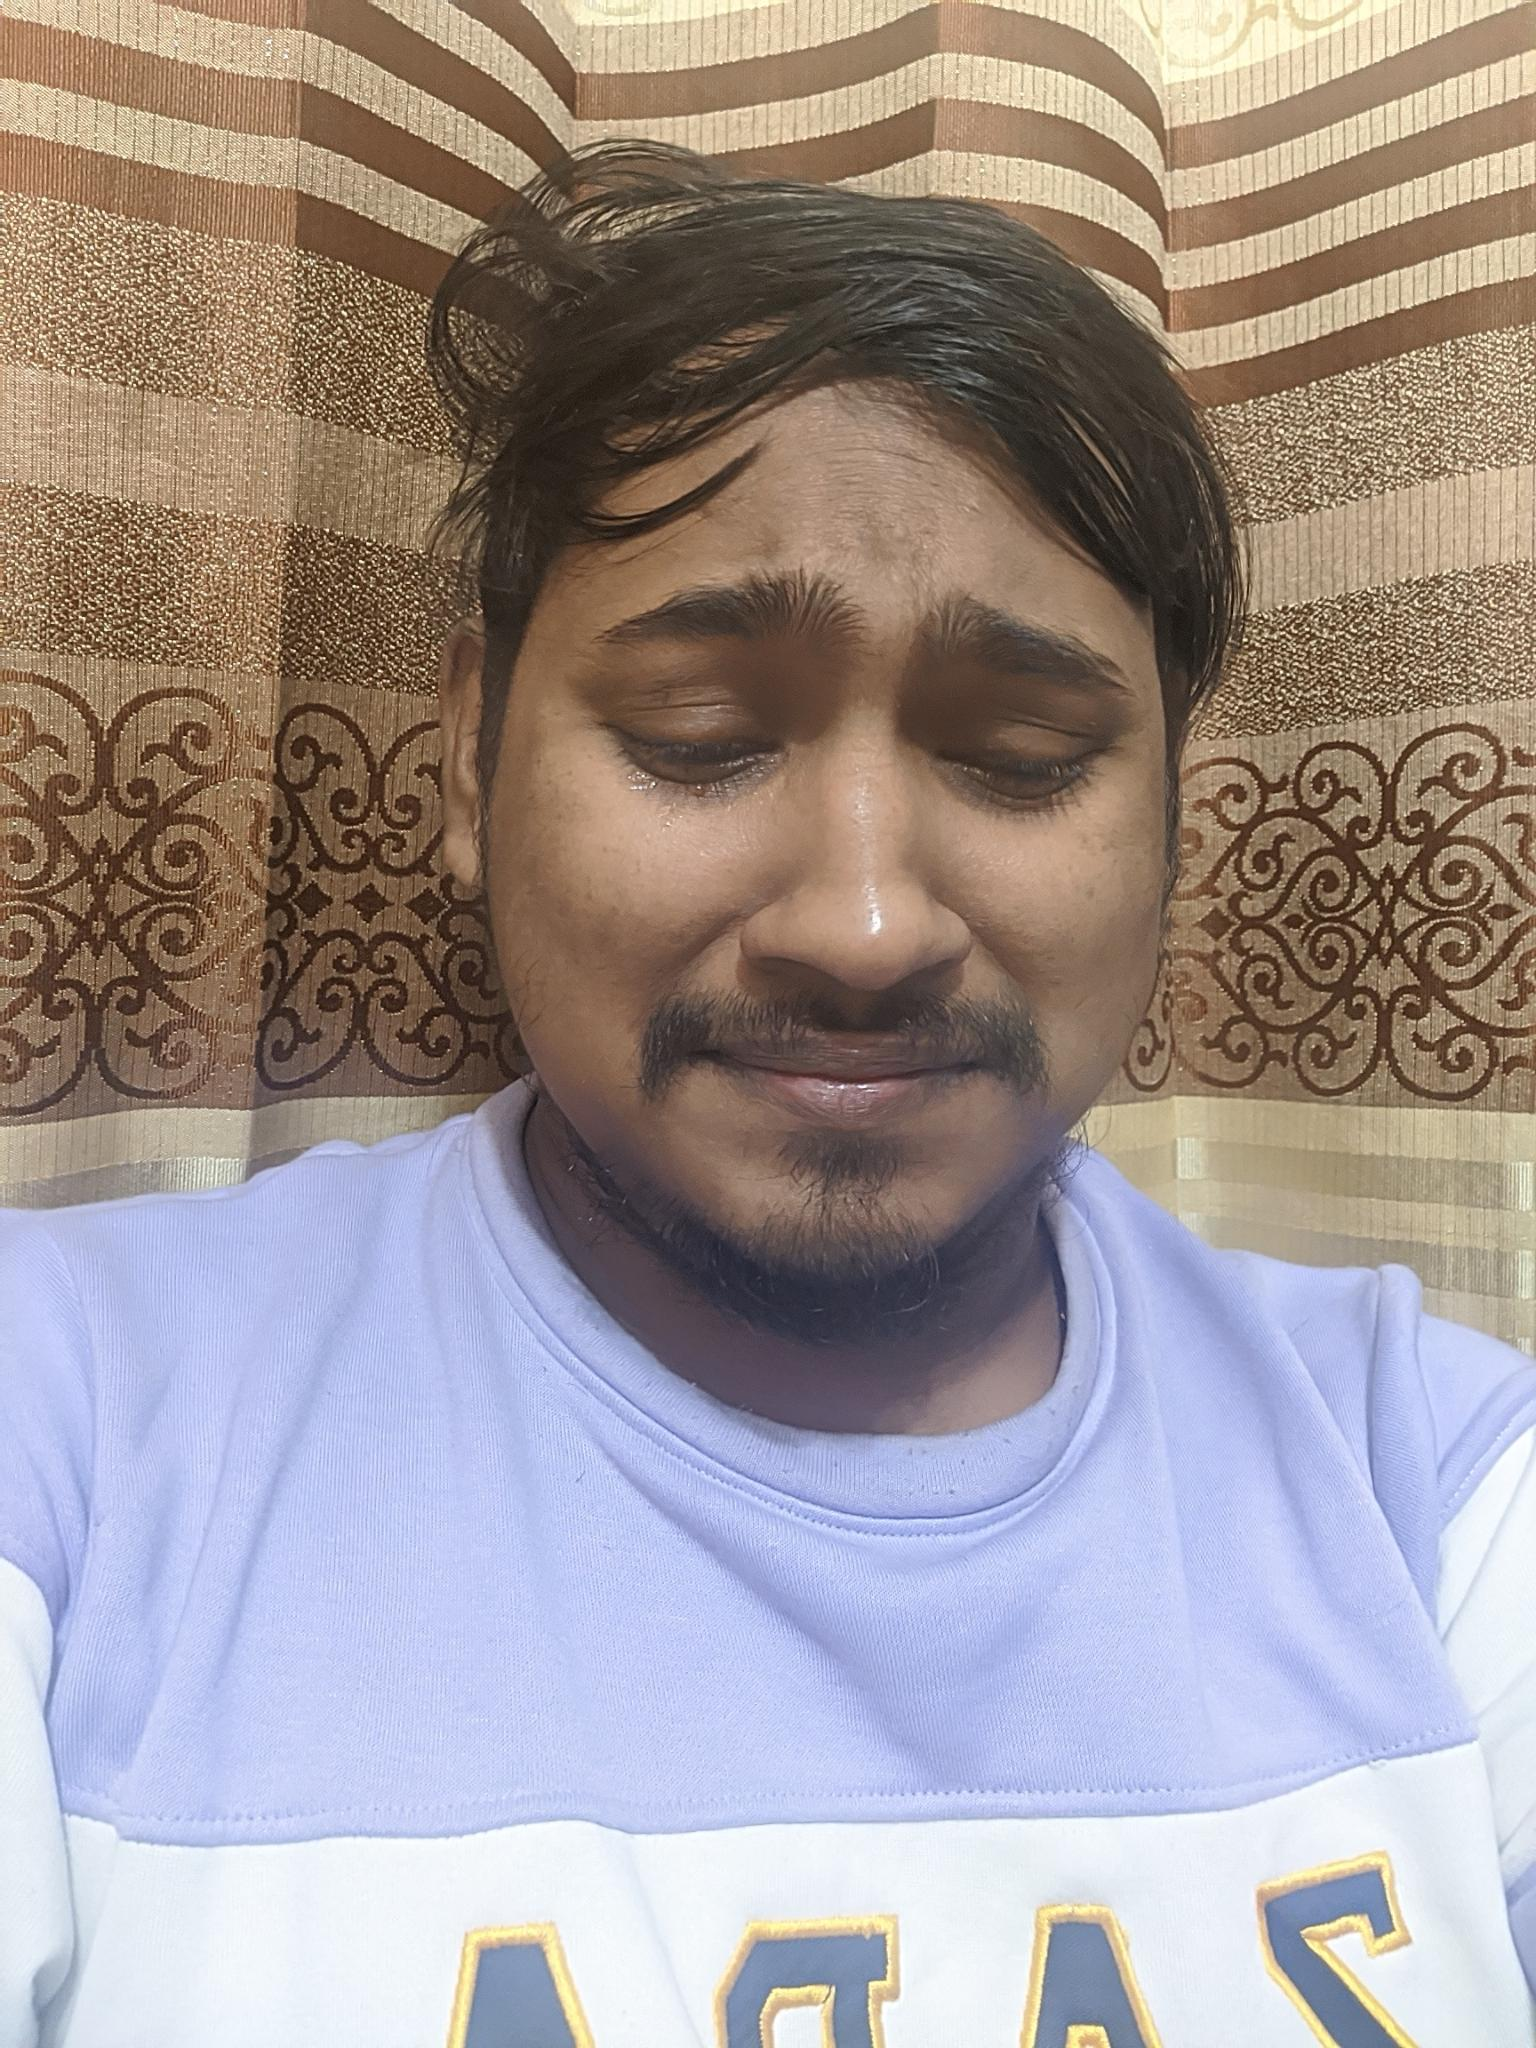Sad: (494, 485, 1215, 1297)
